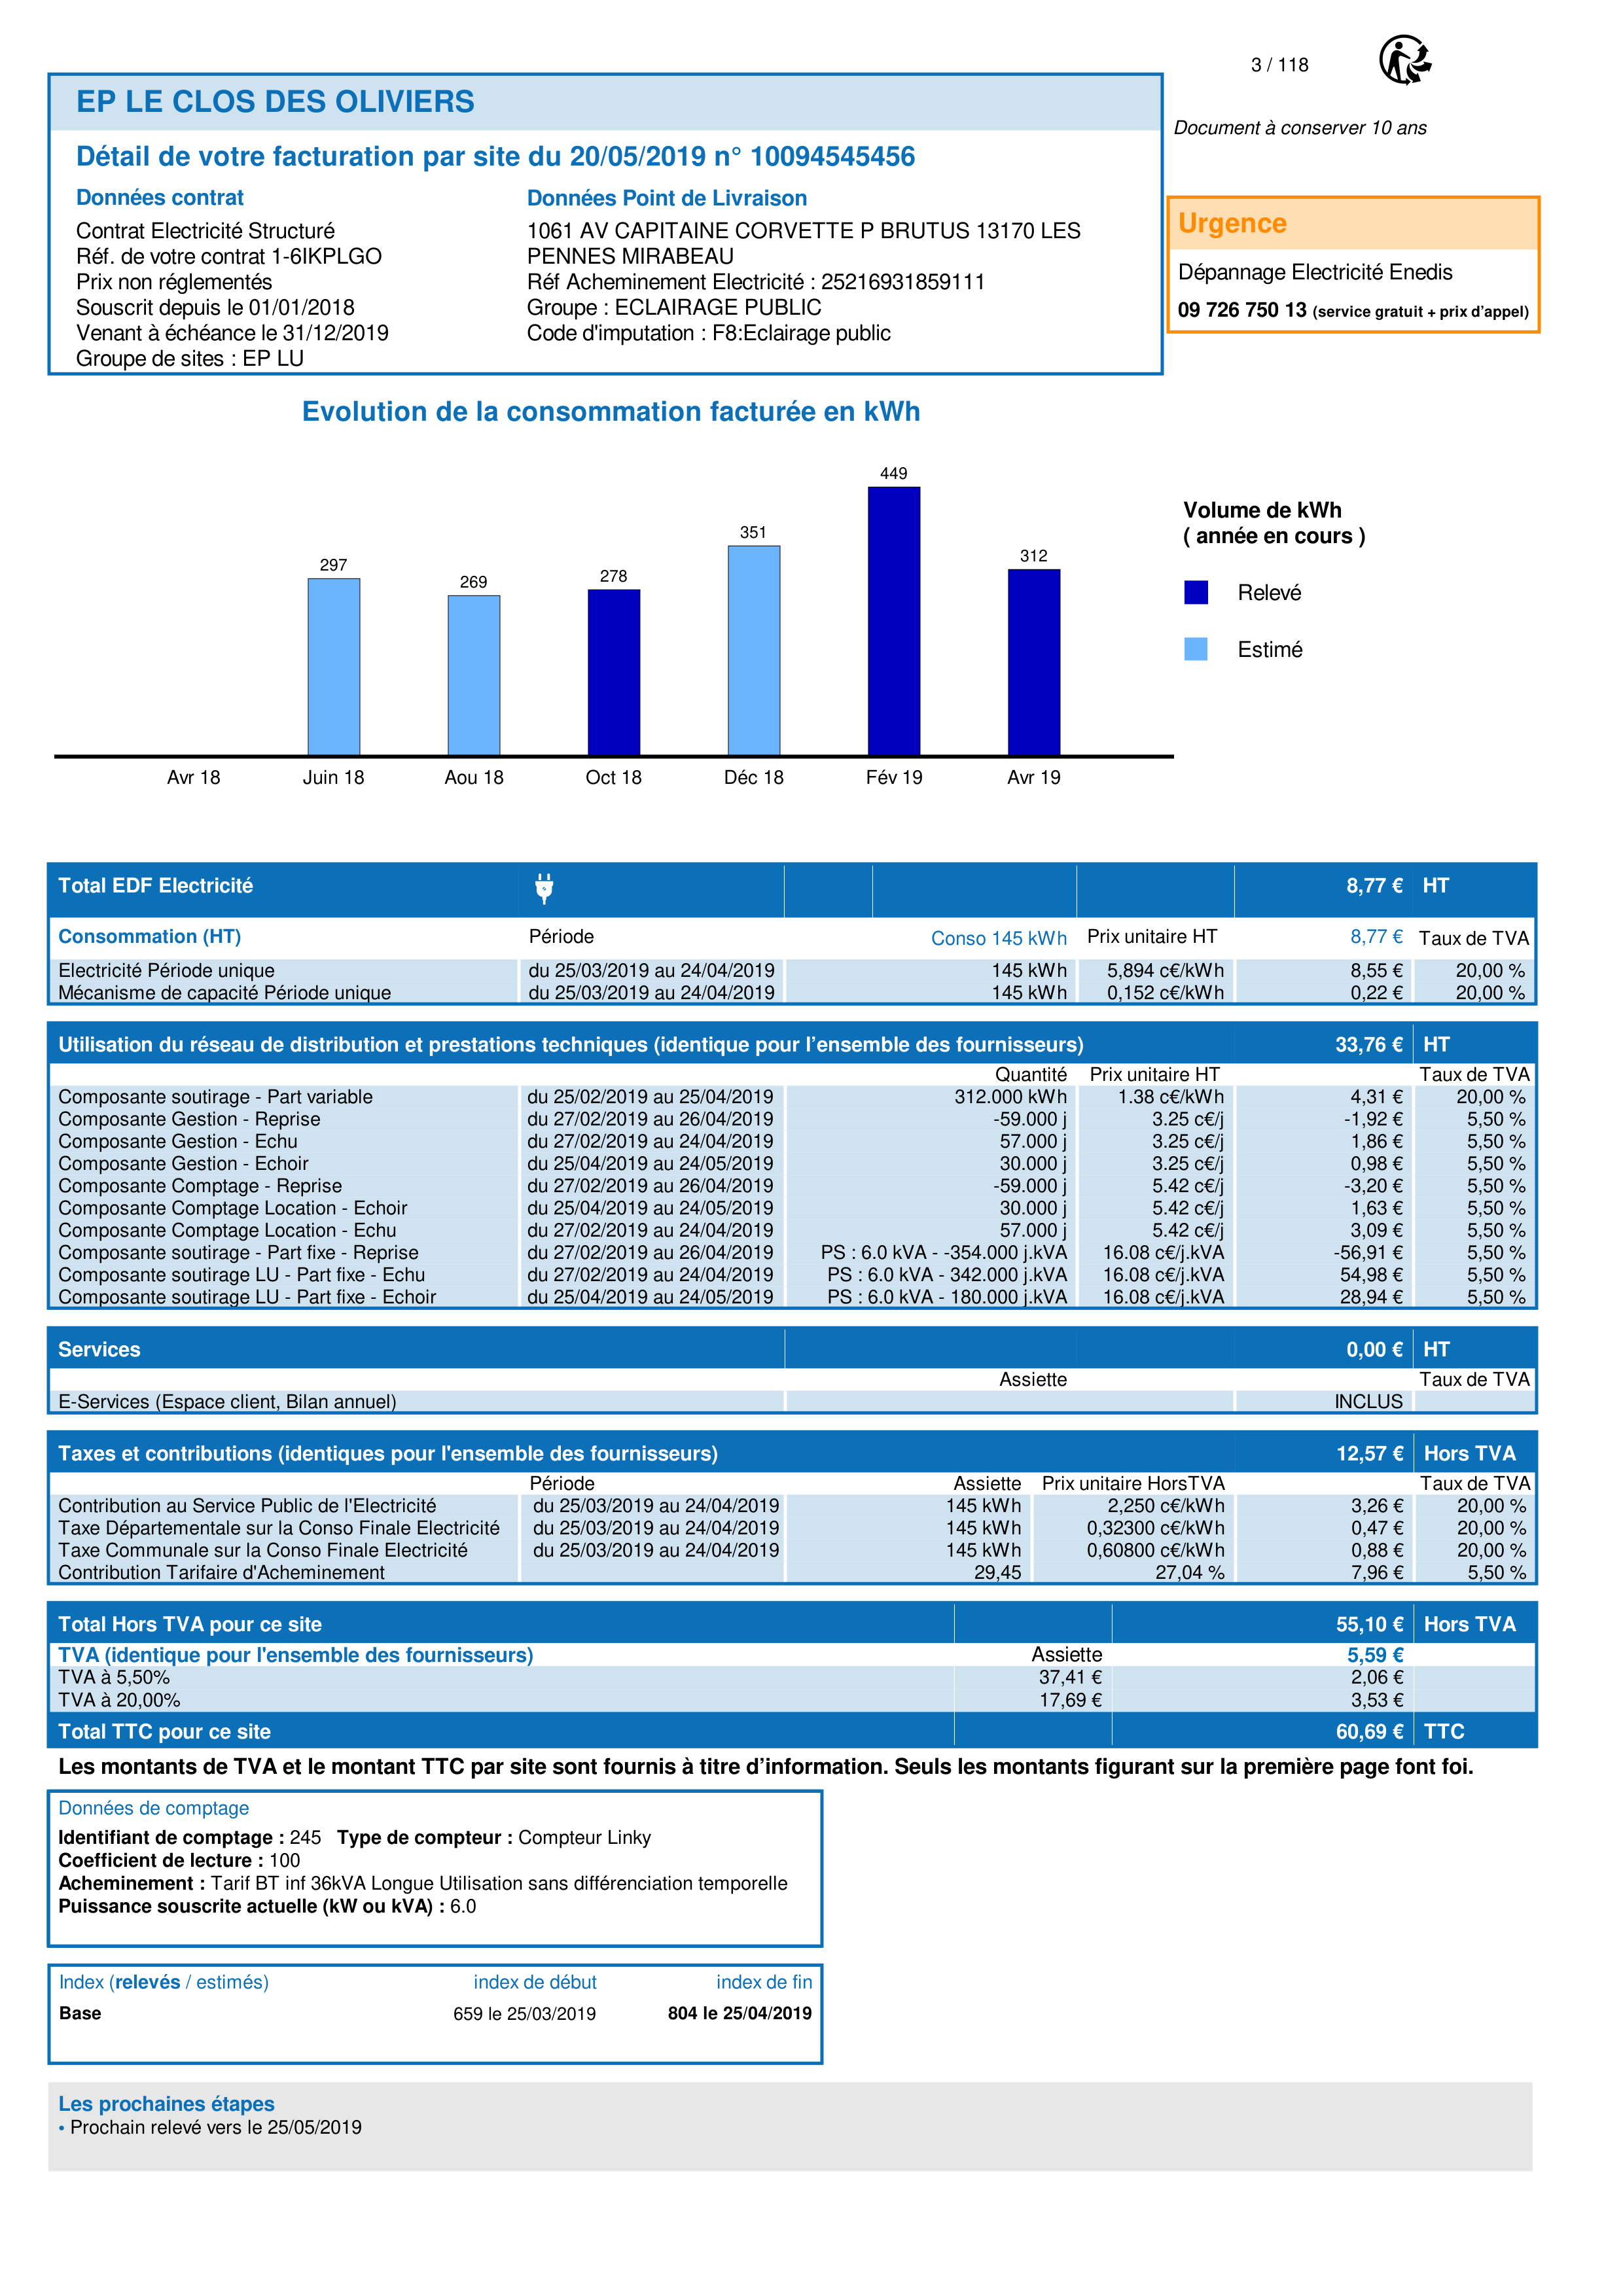area: (47, 1964, 822, 2066)
type_indicator: (47, 1966, 276, 1999)
